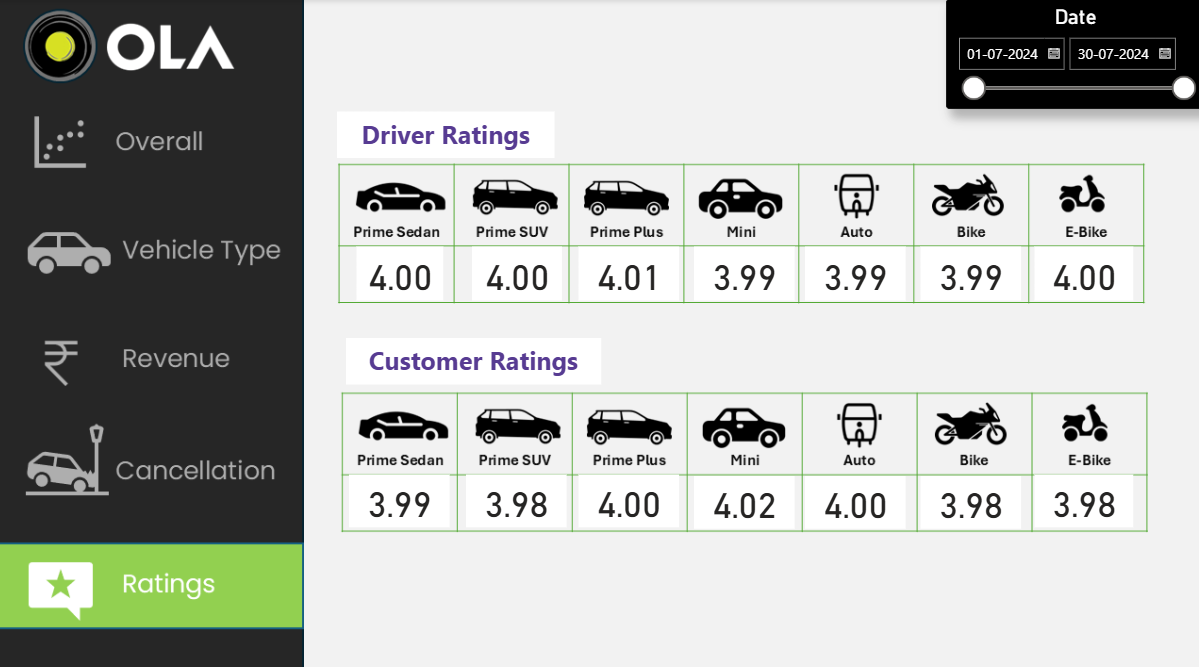

The dashboard page shown, as its layout file describes it:
{"tool":"powerbi","page":{"name":"Ratings","canvas":[1280,720],"ordinal":4},"visuals":[{"type":"card","fields":{"Values":["Avg(Bookings.Driver_Ratings)"]},"box":[380.2,262.5,92.3,57.3],"z":0},{"type":"card","fields":{"Values":["Avg(Bookings.Driver_Ratings)"]},"box":[502.6,262.5,95.4,57.3],"z":1000},{"type":"card","fields":{"Values":["Avg(Bookings.Driver_Ratings)"]},"box":[615.6,262.5,106.6,57.3],"z":2000},{"type":"card","fields":{"Values":["Avg(Bookings.Driver_Ratings)"]},"box":[738,262.5,106.6,57.3],"z":3000},{"type":"card","fields":{"Values":["Avg(Bookings.Driver_Ratings)"]},"box":[855.7,262.5,106.6,57.3],"z":4000},{"type":"card","fields":{"Values":["Avg(Bookings.Driver_Ratings)"]},"box":[978.2,262.5,106.6,57.3],"z":5000},{"type":"card","fields":{"Values":["Avg(Bookings.Driver_Ratings)"]},"box":[1099.1,262.5,105,57.3],"z":6000},{"type":"card","fields":{"Values":["Avg(Bookings.Customer_Rating)"]},"box":[372.2,504.2,106.6,55.7],"z":7000},{"type":"card","fields":{"Values":["Avg(Bookings.Customer_Rating)"]},"box":[496.3,504.2,106.6,55.7],"z":8000},{"type":"card","fields":{"Values":["Avg(Bookings.Customer_Rating)"]},"box":[615.6,504.2,106.6,55.7],"z":9000},{"type":"card","fields":{"Values":["Avg(Bookings.Customer_Rating)"]},"box":[738,505.8,106.6,55.7],"z":10000},{"type":"card","fields":{"Values":["Avg(Bookings.Customer_Rating)"]},"box":[855.7,505.8,106.6,55.7],"z":11000},{"type":"card","fields":{"Values":["Avg(Bookings.Customer_Rating)"]},"box":[978.2,505.8,106.6,55.7],"z":12000},{"type":"card","fields":{"Values":["Avg(Bookings.Customer_Rating)"]},"box":[1099.1,504.2,105,55.7],"z":13000},{"type":"textbox","box":[359.5,119.3,230.6,49.3],"z":14000},{"type":"textbox","box":[369,359.5,270.4,49.3],"z":15000},{"type":"slicer","title":"Date","fields":{"Values":["Bookings.Date"]},"box":[1005.5,0,273.6,116.6],"z":16000},{"type":"actionButton","box":[0,217.9,322.9,89.1],"z":17000},{"type":"actionButton","box":[0,108.2,322.9,89.1],"z":18000},{"type":"actionButton","box":[0,342,322.9,89.1],"z":19000},{"type":"actionButton","box":[1.6,450.1,322.9,89.1],"z":20000}]}

Visuals, with their boxes on the page's 1280x720 design canvas (x1, y1, x2, y2). These are canvas units, not pixel positions in the 1199x667 screenshot, which may show the page scaled, cropped or inside an application window:
card - Avg(Bookings.Driver_Ratings): (left=380, top=262, right=472, bottom=320)
card - Avg(Bookings.Driver_Ratings): (left=503, top=262, right=598, bottom=320)
card - Avg(Bookings.Driver_Ratings): (left=616, top=262, right=722, bottom=320)
card - Avg(Bookings.Driver_Ratings): (left=738, top=262, right=845, bottom=320)
card - Avg(Bookings.Driver_Ratings): (left=856, top=262, right=962, bottom=320)
card - Avg(Bookings.Driver_Ratings): (left=978, top=262, right=1085, bottom=320)
card - Avg(Bookings.Driver_Ratings): (left=1099, top=262, right=1204, bottom=320)
card - Avg(Bookings.Customer_Rating): (left=372, top=504, right=479, bottom=560)
card - Avg(Bookings.Customer_Rating): (left=496, top=504, right=603, bottom=560)
card - Avg(Bookings.Customer_Rating): (left=616, top=504, right=722, bottom=560)
card - Avg(Bookings.Customer_Rating): (left=738, top=506, right=845, bottom=562)
card - Avg(Bookings.Customer_Rating): (left=856, top=506, right=962, bottom=562)
card - Avg(Bookings.Customer_Rating): (left=978, top=506, right=1085, bottom=562)
card - Avg(Bookings.Customer_Rating): (left=1099, top=504, right=1204, bottom=560)
textbox: (left=360, top=119, right=590, bottom=169)
textbox: (left=369, top=360, right=639, bottom=409)
"Date" slicer: (left=1006, top=0, right=1279, bottom=117)
actionButton: (left=0, top=218, right=323, bottom=307)
actionButton: (left=0, top=108, right=323, bottom=197)
actionButton: (left=0, top=342, right=323, bottom=431)
actionButton: (left=2, top=450, right=324, bottom=539)
